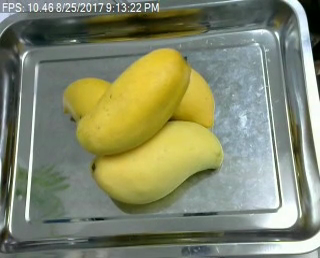Mango: (75, 44, 194, 156), (89, 119, 223, 205), (166, 61, 217, 126), (64, 77, 116, 120)
